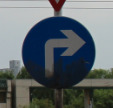right_turn: (22, 16, 95, 88)
